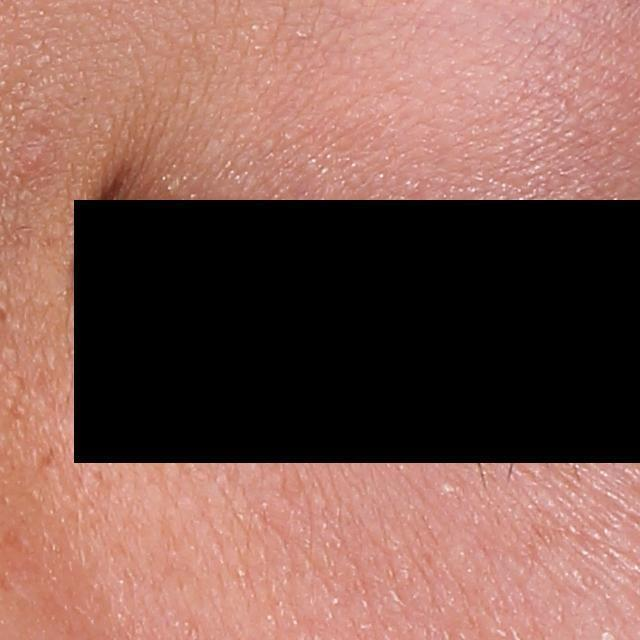comedo: (438, 476, 465, 500)
